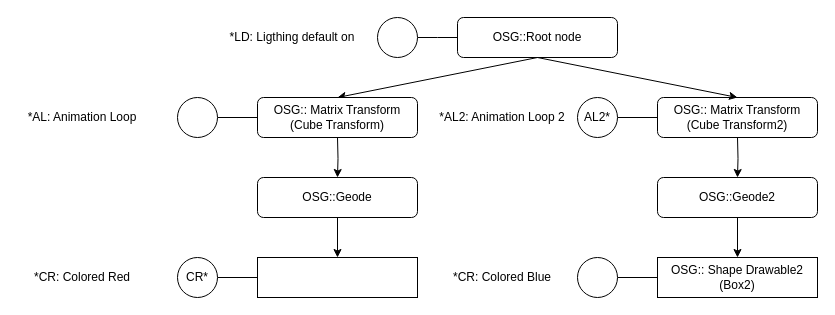
This 835x315 diagram has some shape labels left out. Here are the shapes that lost their labels. From the top down, the box of each, then its label:
(376, 16, 418, 58): LD*
(176, 96, 218, 138): AL*
(256, 256, 418, 298): OSG:: Shape Drawable (Box)
(576, 256, 618, 298): CB*
